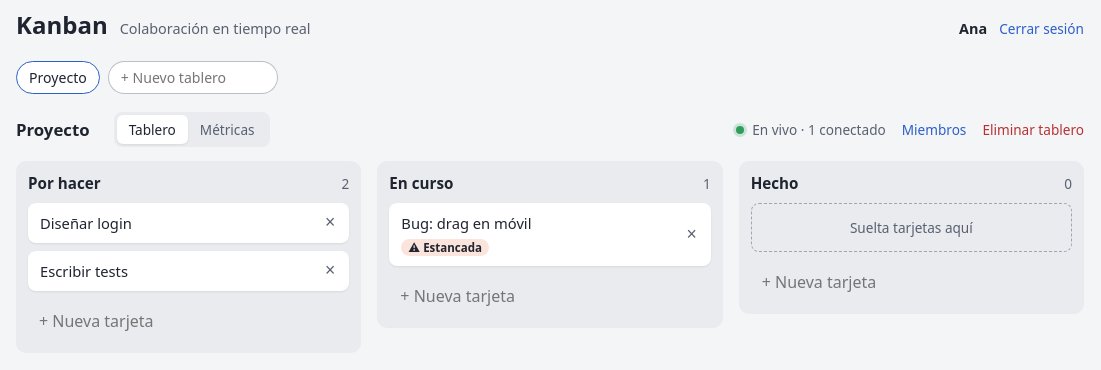
Scenario: tablero › crear una tarjeta la agrega a su columna y limpia el campo
In the field named "Nueva tarjeta en Hecho": {"x": 911, "y": 282} left=751, top=262, right=1072, bottom=302, type "Publicar versión"
Then press Enter
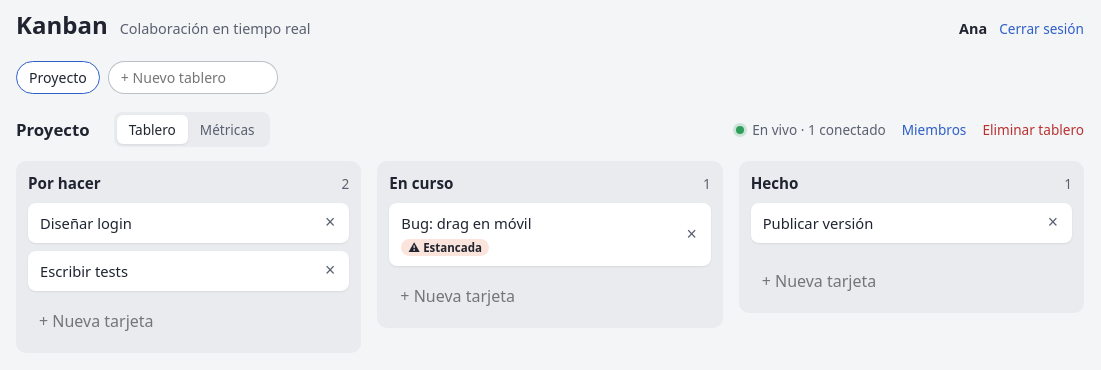
Expected: the text "Publicar versión" is shown, left=763, top=213, right=873, bottom=233
